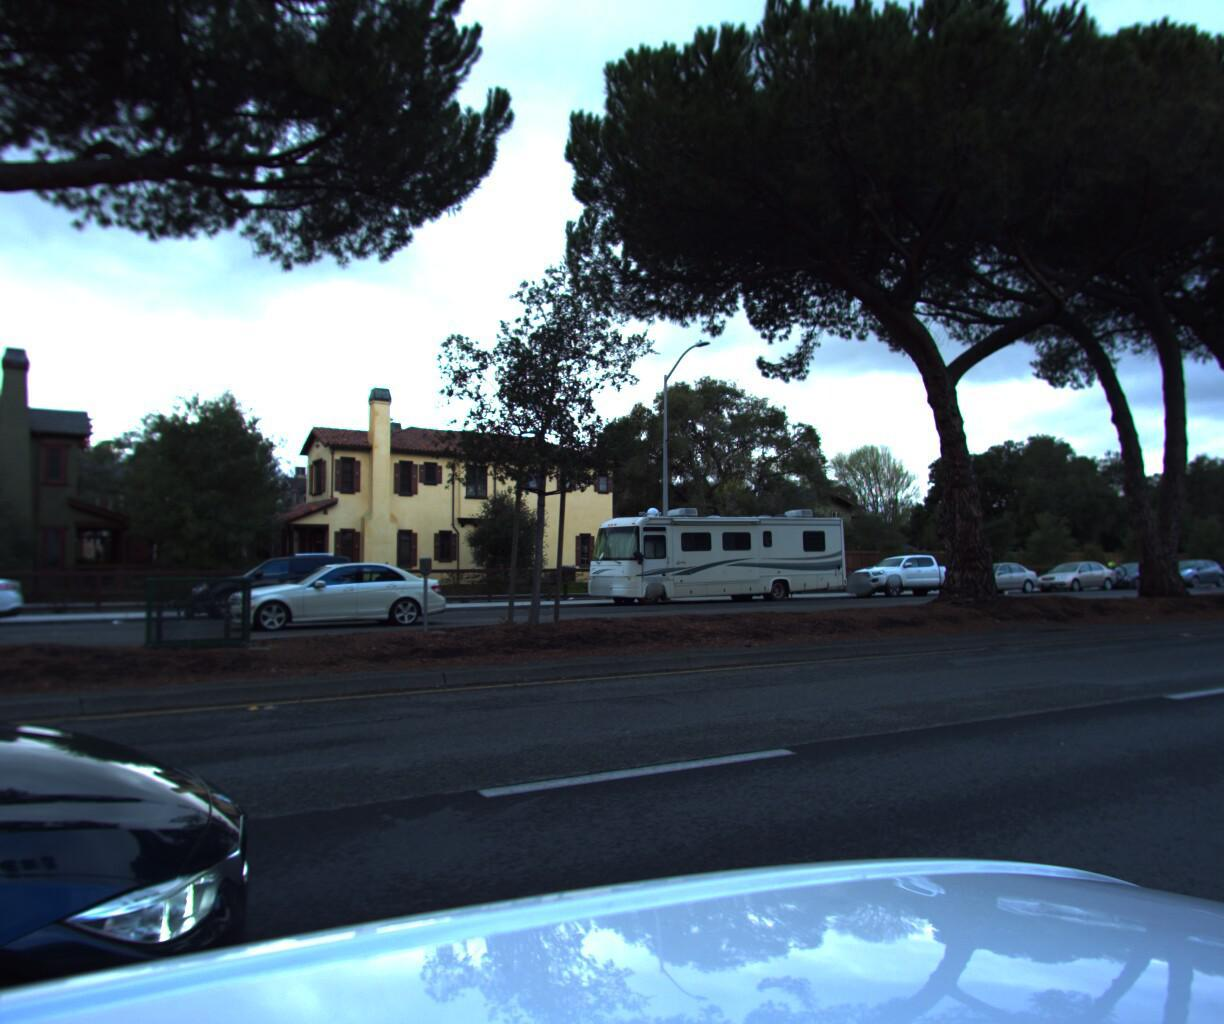car: (218, 558, 452, 633), (183, 551, 371, 625), (843, 546, 971, 596), (943, 558, 1041, 592), (1027, 557, 1116, 591), (1090, 557, 1173, 587), (1144, 556, 1224, 585), (1210, 538, 1224, 591)
other_vehicle: (572, 492, 855, 607)
